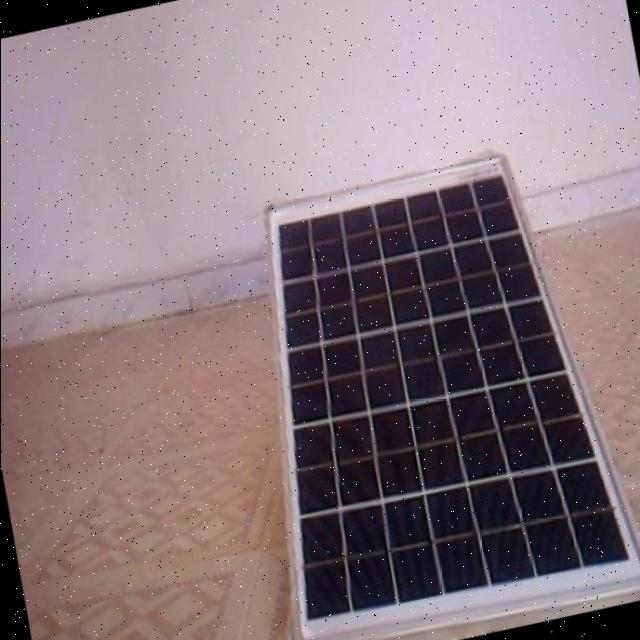Normal Solar Panel: (201, 142, 640, 640)
